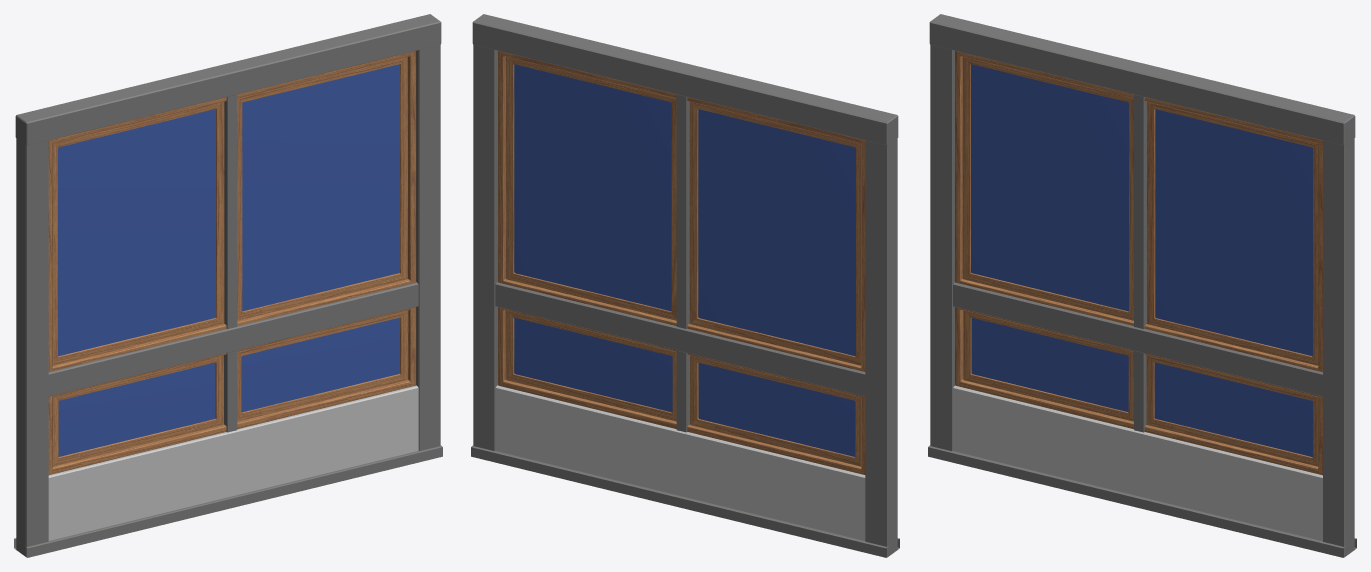
Rendered from SM_wall_windows_02.fbx.
3 views of the same model, side by side, from view 1: azimuth 30°, elevation 25°; view 2: azimuth 150°, elevation 25°; view 3: azimuth 330°, elevation 25° (orthographic).
Visible parts, largest first — view 1: Wall_windows_02; view 2: Wall_windows_02; view 3: Wall_windows_02.
Part boxes in pixels (left/top/right/bottom): Wall_windows_02: left=14, top=14, right=442, bottom=557; Wall_windows_02: left=471, top=14, right=899, bottom=557; Wall_windows_02: left=928, top=14, right=1356, bottom=557.
Size of the model in its own units: 158 by 158 by 8.89.
